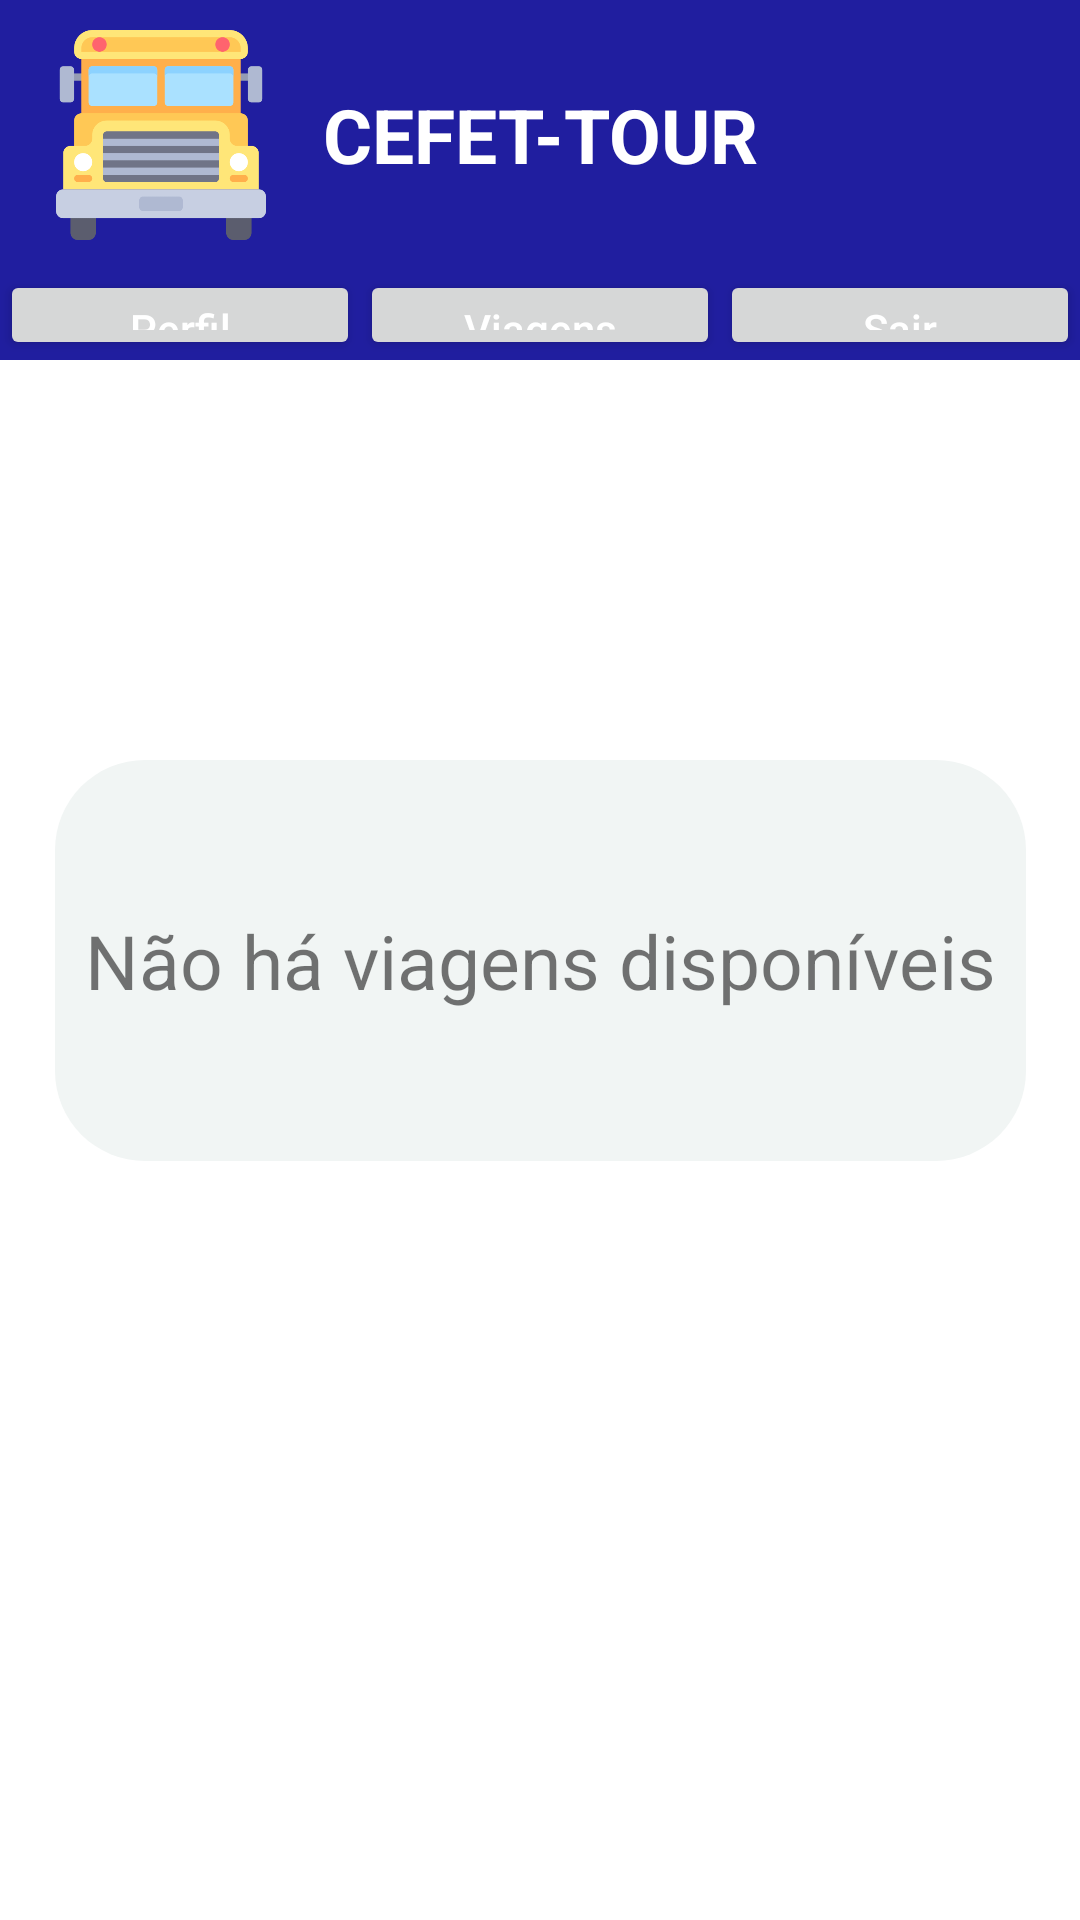

Where icons sit on this 1080*1920 app screen, as BBox(x1, y1, x2, y2):
schoolbus: BBox(56, 30, 266, 240)
